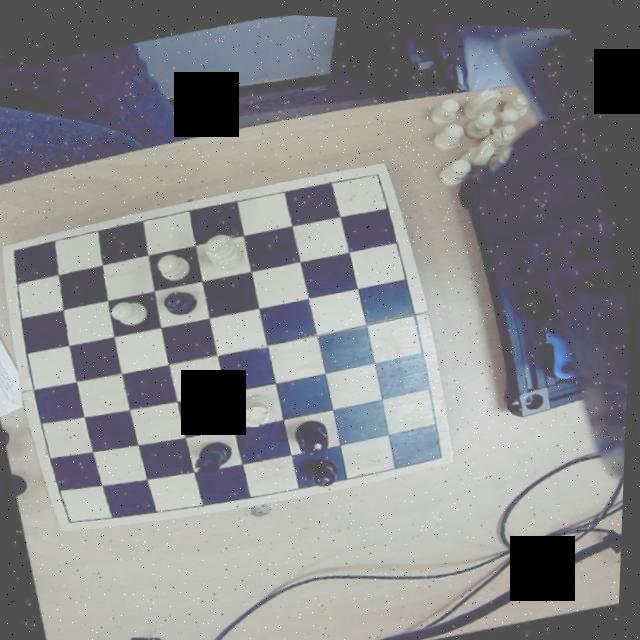chess-table-corners: (425, 435, 455, 463), (365, 160, 393, 186), (2, 240, 34, 262), (59, 506, 85, 530)
